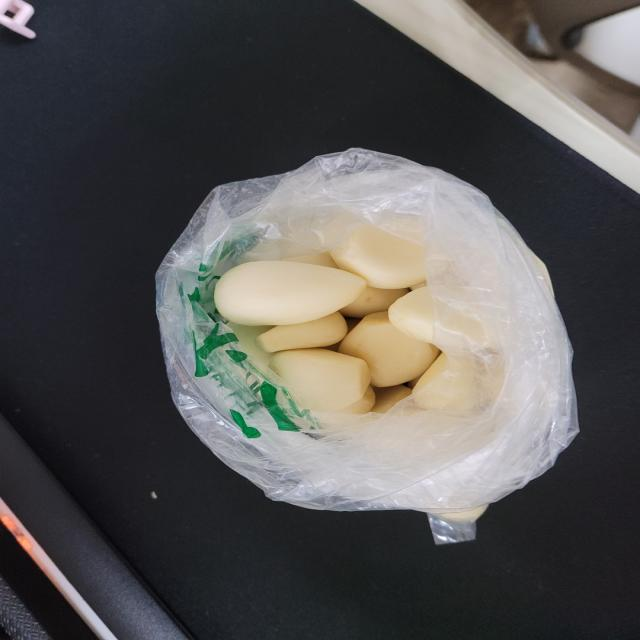garlic: (215, 215, 443, 413)
